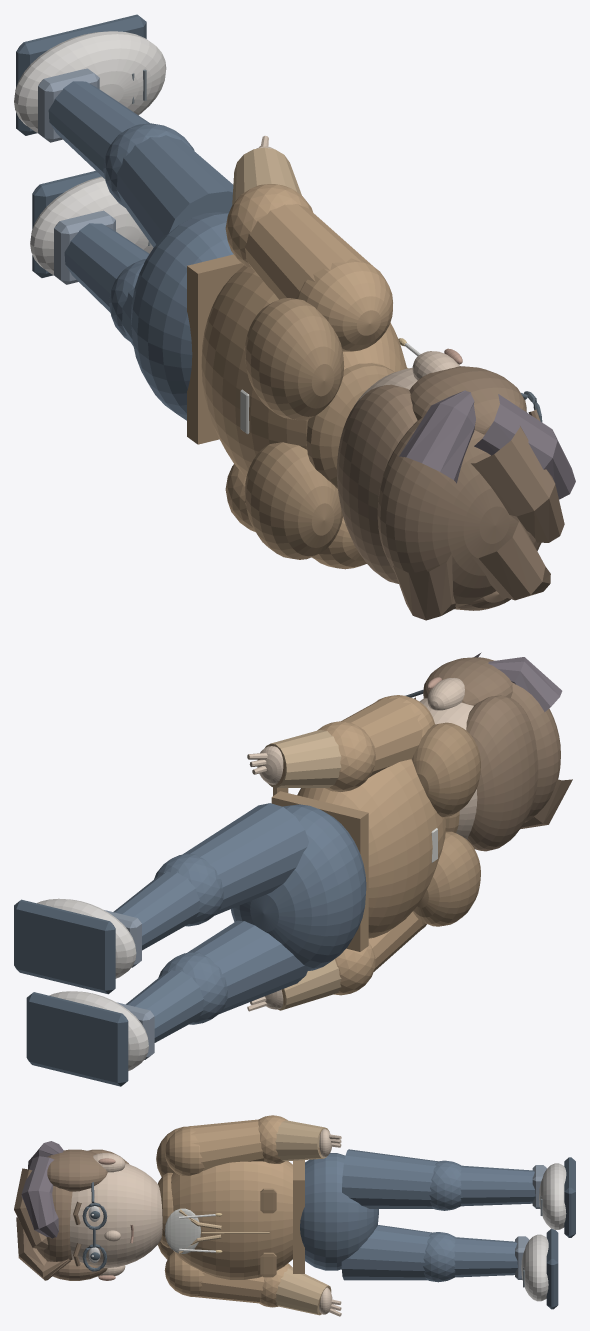
The model's file is growth_walkRight_0.glb.
3 views of the same model, one above another, from view 1: azimuth 30°, elevation 25°; view 2: azimuth 150°, elevation 25°; view 3: azimuth 270°, elevation 25° (orthographic). The views are drawn at different scales.
Parts seen in each view (by area): view 1: 0022__hair_crown, 0000__hoodie_main_torso, 0014__pants_pelvis, 0005__hood_folds, 0009__hood_folds, 0023__hair_back, 0046__jeans_thigh, 0050__sneaker, 0057__sleeve_upper, 0056__hoodie_shoulder, 0027__hair_lock_1, 0048__jeans_shin (+20 smaller); view 2: 0014__pants_pelvis, 0000__hoodie_main_torso, 0023__hair_back, 0070__rubber_sole, 0051__rubber_sole, 0046__jeans_thigh, 0065__jeans_thigh, 0005__hood_folds, 0009__hood_folds, 0048__jeans_shin, 0057__sleeve_upper, 0059__sleeve_forearm (+20 smaller); view 3: 0000__hoodie_main_torso, 0017__face_head, 0014__pants_pelvis, 0046__jeans_thigh, 0065__jeans_thigh, 0048__jeans_shin, 0057__sleeve_upper, 0067__jeans_shin, 0026__hair_lock_0, 0024__temple_side, 0059__sleeve_forearm, 0078__sleeve_forearm (+28 smaller).
Boxes of the visible parts, x1,y1,x2,y2 form: 0022__hair_crown: (377,417,541,606); 0000__hoodie_main_torso: (201,265,407,477); 0014__pants_pelvis: (131,212,233,420); 0005__hood_folds: (244,298,344,420); 0009__hood_folds: (244,442,342,559); 0023__hair_back: (337,384,417,583); 0046__jeans_thigh: (116,135,233,247); 0050__sneaker: (14,31,166,132); 0057__sleeve_upper: (244,203,372,299); 0056__hoodie_shoulder: (296,258,392,351); 0027__hair_lock_1: (471,426,564,542); 0048__jeans_shin: (48,81,149,178); 0014__pants_pelvis: (231,804,366,970); 0000__hoodie_main_torso: (297,759,445,938); 0023__hair_back: (466,695,537,851); 0070__rubber_sole: (26,992,128,1086); 0051__rubber_sole: (14,899,115,994); 0046__jeans_thigh: (182,803,308,915); 0065__jeans_thigh: (187,920,308,1013); 0005__hood_folds: (412,722,480,817); 0009__hood_folds: (413,831,480,926); 0048__jeans_shin: (113,871,200,950); 0057__sleeve_upper: (341,697,422,777); 0059__sleeve_forearm: (264,729,341,787); 0000__hoodie_main_torso: (171,1161,292,1279); 0017__face_head: (70,1163,162,1268); 0014__pants_pelvis: (300,1153,378,1270); 0046__jeans_thigh: (342,1149,437,1208); 0065__jeans_thigh: (341,1225,431,1280); 0048__jeans_shin: (460,1165,535,1206); 0057__sleeve_upper: (191,1119,264,1170); 0067__jeans_shin: (454,1237,517,1277); 0026__hair_lock_0: (21,1156,58,1238); 0024__temple_side: (47,1149,107,1191); 0059__sleeve_forearm: (275,1120,329,1161); 0078__sleeve_forearm: (275,1267,331,1315).
Size of the model in its own units: 0.5728 by 0.764 by 2.07.
